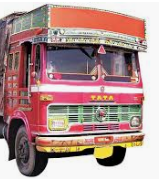truck: (1, 3, 148, 178)
